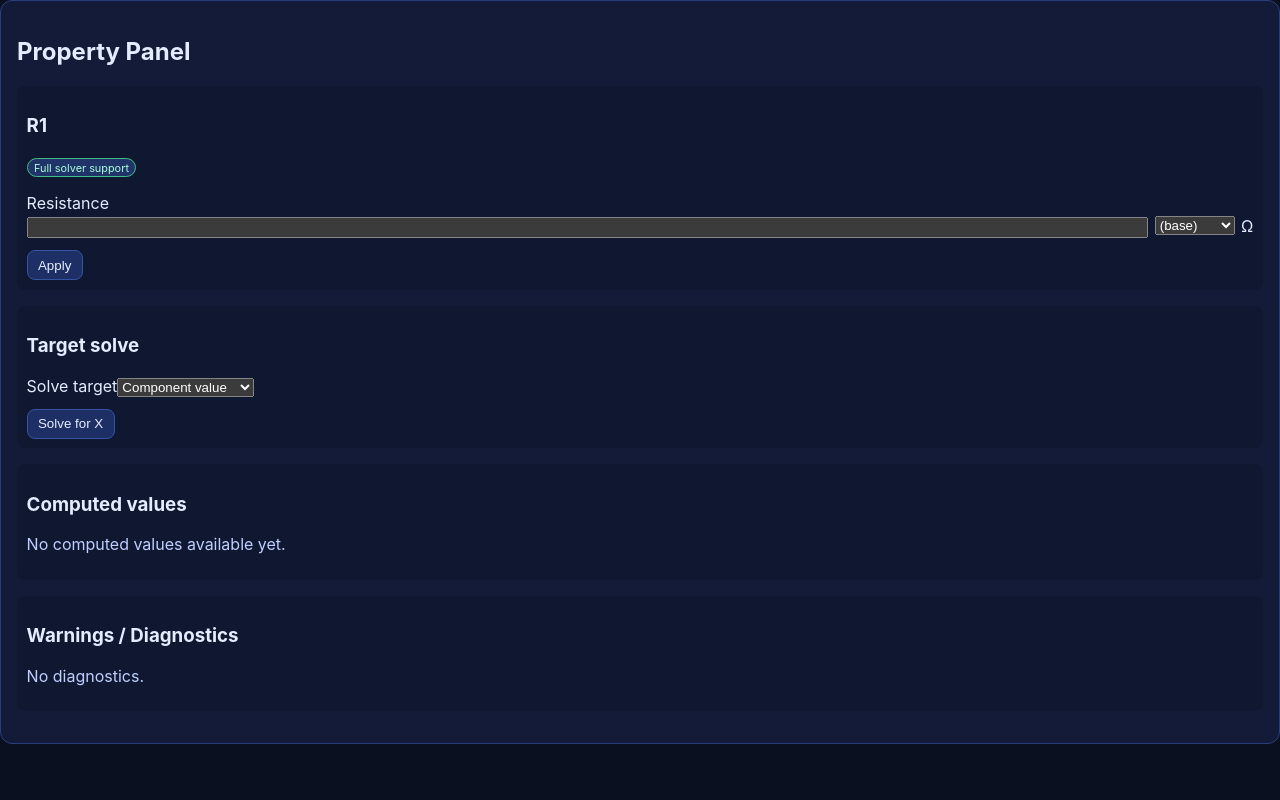
Test: PropertyPanel updates and rendering › enforces min and non-zero constraint validation messages
In the field: (587, 228) [27,217,1148,238], type "0"
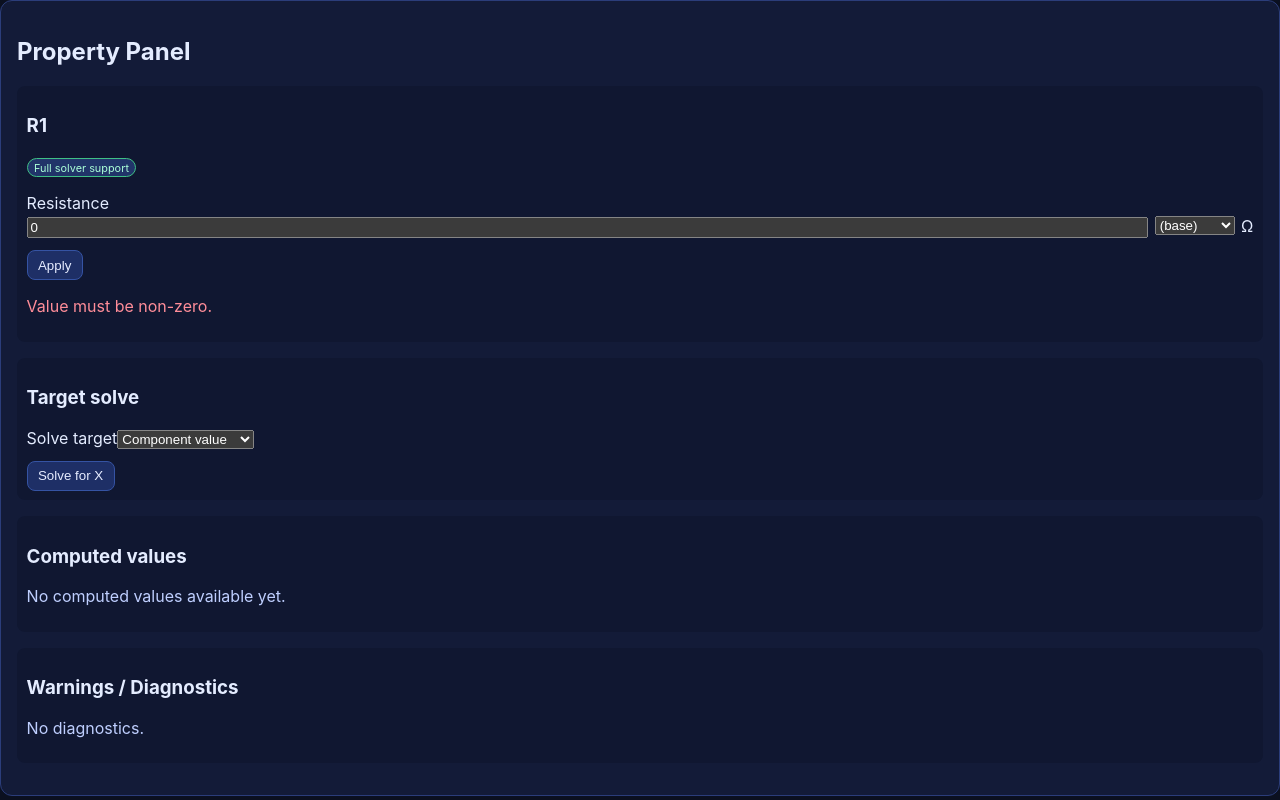
Expected: the text "Value must be non-zero." is shown, [27,296,212,316]
Replace the text in the field with "0.0001": (587, 228) [27,217,1148,238]
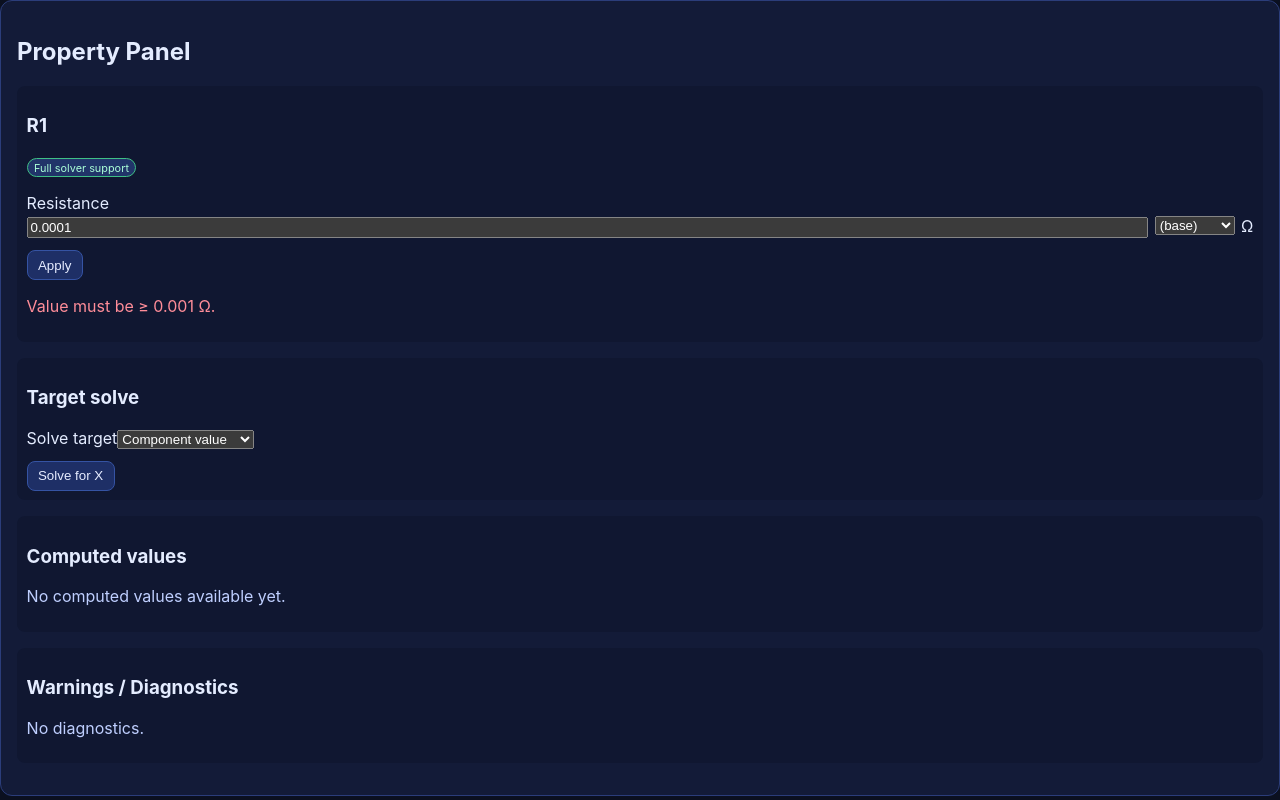
Expected: the text "Value must be ≥ 0.001 Ω." is shown, [27,296,215,316]
